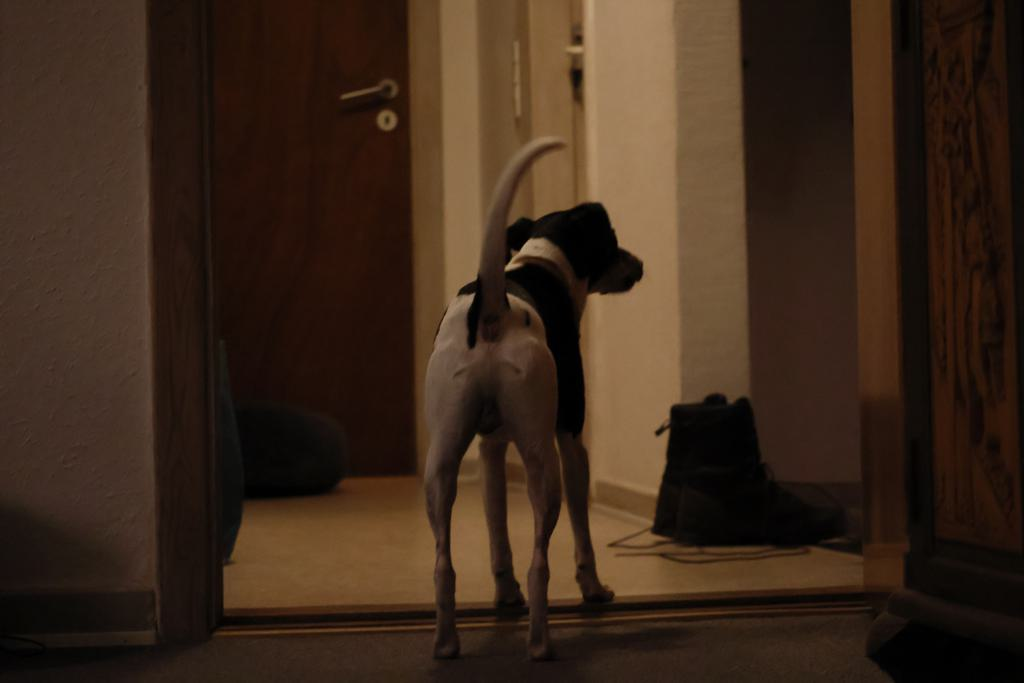Dog: (403, 121, 655, 669)
